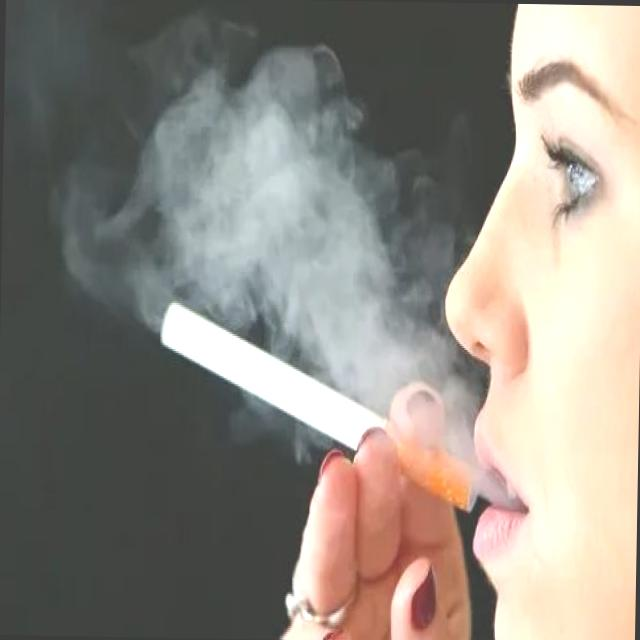cigarette: (157, 294, 487, 520)
